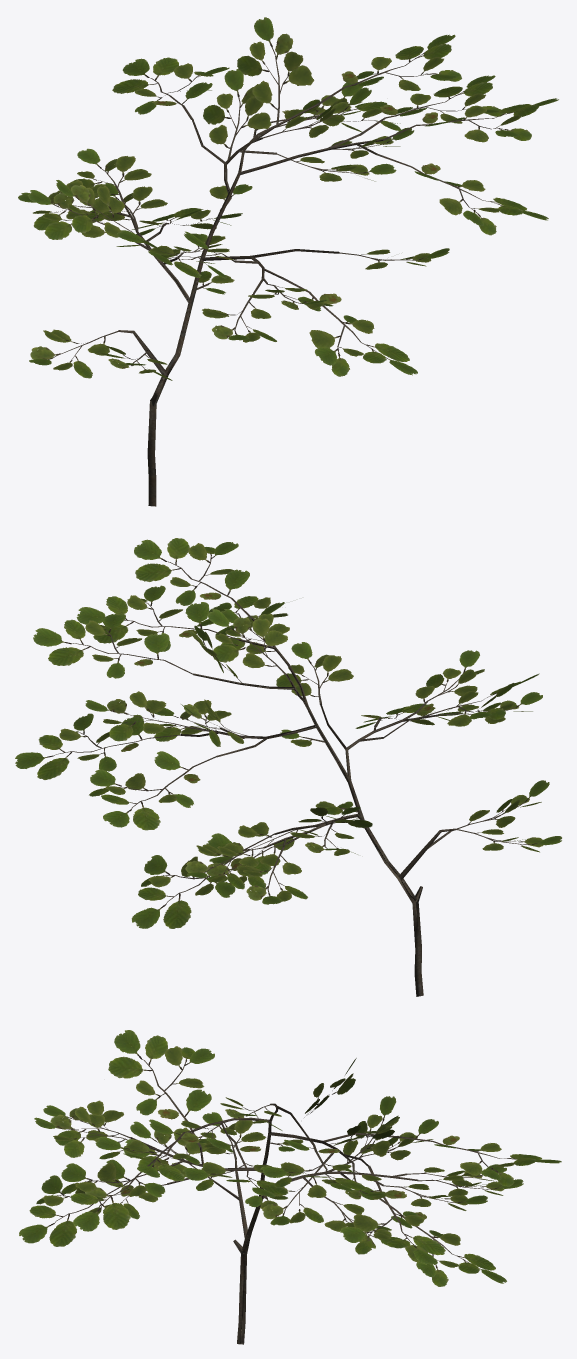
File: SM_BlackAlder_Sapling_04_PP_LOD3.gltf
3 renders of one model, top to bottom at view 1: azimuth 30°, elevation 25°; view 2: azimuth 150°, elevation 25°; view 3: azimuth 270°, elevation 25°, orthographic. The views are drawn at different scales.
Parts seen in each view (by area): view 1: SM_BlackAlder_Sapling_04_PP; view 2: SM_BlackAlder_Sapling_04_PP; view 3: SM_BlackAlder_Sapling_04_PP.
Boxes of the visible parts, <box> form: SM_BlackAlder_Sapling_04_PP: <box>18,17,558,506</box>; SM_BlackAlder_Sapling_04_PP: <box>15,538,561,996</box>; SM_BlackAlder_Sapling_04_PP: <box>19,1030,561,1344</box>.
Bounding box in the file's own units: 2.13 × 1.63 × 2.23.
1 material, 1 textured.
